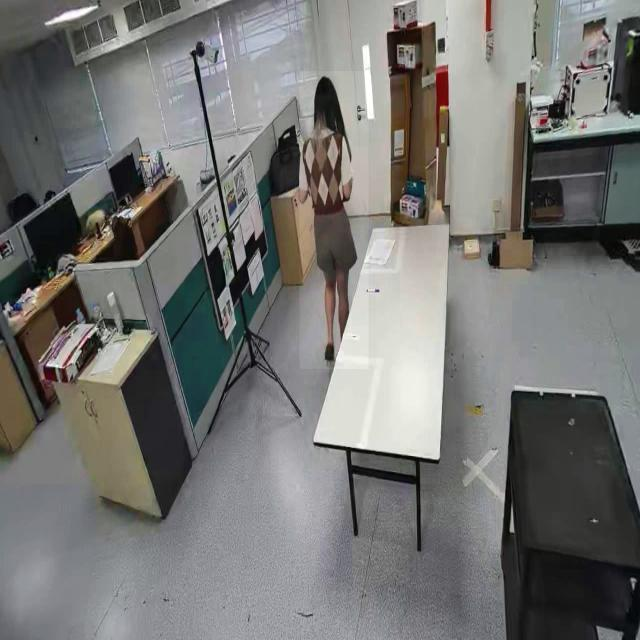head_nohelmet: (315, 76, 339, 96)
person: (299, 71, 369, 370)
